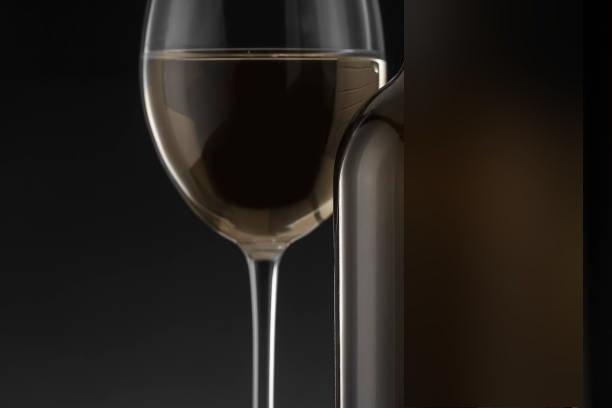glass-wine: (138, 0, 386, 407)
